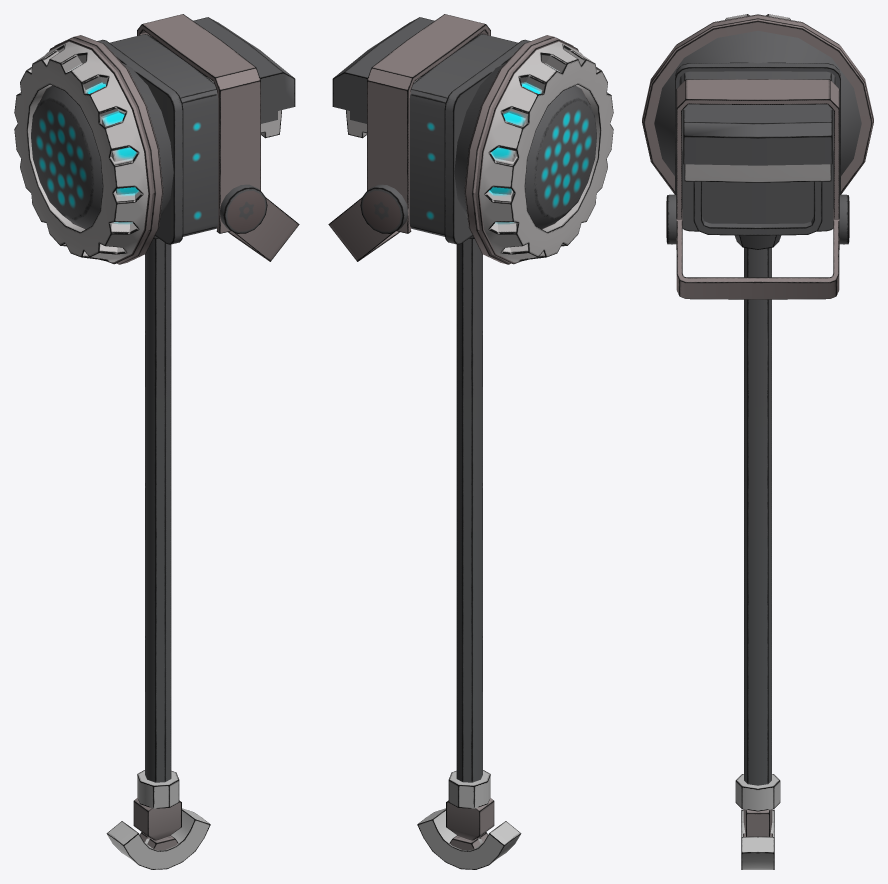
The model's file is EPIC_MON_WEAPON.fbx.
3 views of the same model, side by side, from view 1: azimuth 30°, elevation 25°; view 2: azimuth 150°, elevation 25°; view 3: azimuth 270°, elevation 25° (orthographic).
Visible parts, largest first — view 1: Weapon; view 2: Weapon; view 3: Weapon.
Boxes of the visible parts, bbox=[...] form: Weapon: bbox=[14, 14, 299, 869]; Weapon: bbox=[328, 14, 613, 869]; Weapon: bbox=[642, 14, 873, 869].
Bounding box in the file's own units: 61.3 × 242 × 62.05.
